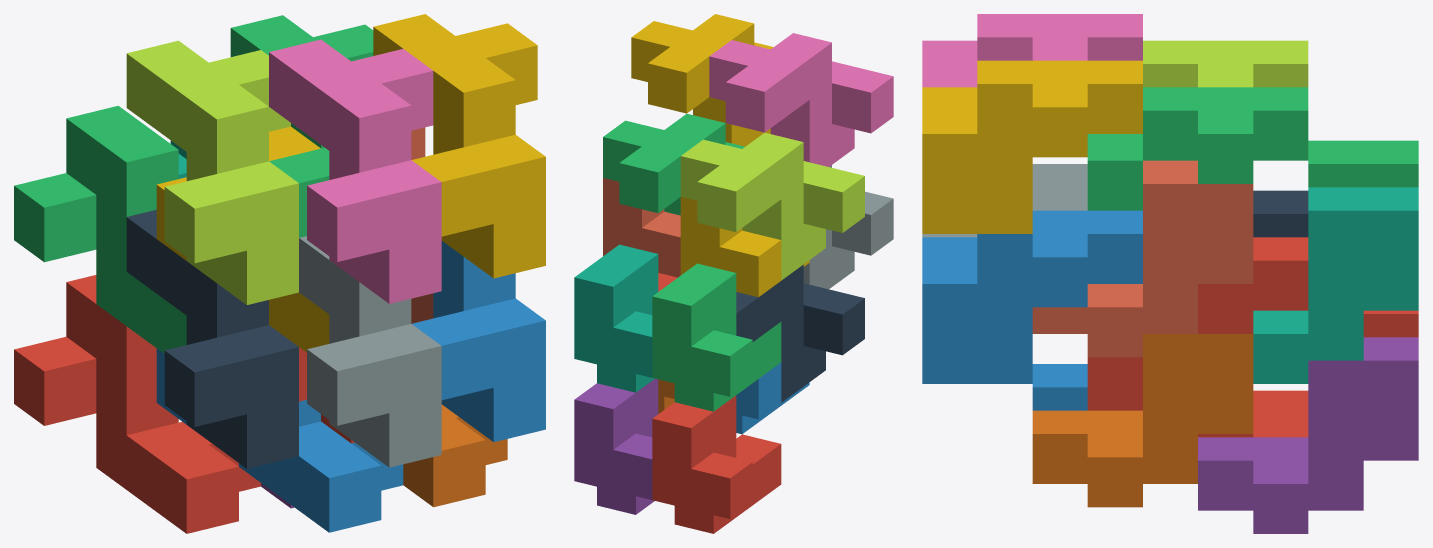
Rendered from tiling.obj.
3 renders of one model, left to right at view 1: azimuth 30°, elevation 25°; view 2: azimuth 150°, elevation 25°; view 3: azimuth 270°, elevation 25°, orthographic. The views are drawn at different scales.
Visible parts, largest first — view 1: copy_2_domain_4, copy_2_domain_3, copy_2_domain_8, copy_1_domain_1, copy_2_domain_1, copy_1_domain_3, copy_2_domain_2, copy_2_domain_6, copy_1_domain_2, copy_2_domain_7, copy_1_domain_6, copy_1_domain_4 (+1 smaller); view 2: copy_2_domain_4, copy_2_domain_3, copy_1_domain_3, copy_1_domain_1, copy_1_domain_7, copy_1_domain_5, copy_2_domain_1, copy_2_domain_8, copy_2_domain_7, copy_1_domain_4, copy_1_domain_8, copy_2_domain_2 (+2 smaller); view 3: copy_2_domain_8, copy_2_domain_6, copy_1_domain_5, copy_1_domain_6, copy_1_domain_8, copy_1_domain_7, copy_2_domain_7, copy_2_domain_4, copy_2_domain_5, copy_2_domain_3, copy_1_domain_3, copy_1_domain_1 (+3 smaller).
Part boxes in pixels (x1=…): copy_2_domain_4: x1=269, y1=39, x2=441, y2=303; copy_2_domain_3: x1=126, y1=40, x2=298, y2=304; copy_2_domain_8: x1=373, y1=14, x2=545, y2=278; copy_1_domain_1: x1=14, y1=275, x2=260, y2=533; copy_2_domain_1: x1=126, y1=209, x2=298, y2=468; copy_1_domain_3: x1=14, y1=105, x2=186, y2=353; copy_2_domain_2: x1=299, y1=236, x2=441, y2=467; copy_2_domain_6: x1=412, y1=241, x2=545, y2=441; copy_1_domain_2: x1=156, y1=348, x2=403, y2=532; copy_2_domain_7: x1=230, y1=15, x2=373, y2=237; copy_1_domain_6: x1=403, y1=404, x2=507, y2=507; copy_1_domain_4: x1=156, y1=126, x2=329, y2=352; copy_2_domain_4: x1=709, y1=33, x2=893, y2=166; copy_2_domain_3: x1=680, y1=132, x2=864, y2=280; copy_1_domain_3: x1=652, y1=263, x2=781, y2=411; copy_1_domain_1: x1=652, y1=395, x2=781, y2=533; copy_1_domain_7: x1=574, y1=244, x2=658, y2=392; copy_1_domain_5: x1=574, y1=378, x2=658, y2=514; copy_2_domain_1: x1=736, y1=264, x2=864, y2=402; copy_2_domain_8: x1=631, y1=14, x2=773, y2=146; copy_2_domain_7: x1=603, y1=113, x2=744, y2=215; copy_1_domain_4: x1=680, y1=197, x2=809, y2=297; copy_1_domain_8: x1=603, y1=178, x2=680, y2=277; copy_2_domain_2: x1=803, y1=165, x2=893, y2=289; copy_2_domain_8: x1=922, y1=60, x2=1142, y2=233; copy_2_domain_6: x1=922, y1=210, x2=1142, y2=383; copy_1_domain_5: x1=1198, y1=337, x2=1418, y2=533; copy_1_domain_6: x1=1032, y1=334, x2=1253, y2=507; copy_1_domain_8: x1=1032, y1=160, x2=1253, y2=357; copy_1_domain_7: x1=1253, y1=187, x2=1418, y2=383; copy_2_domain_7: x1=1087, y1=87, x2=1308, y2=210; copy_2_domain_4: x1=922, y1=14, x2=1142, y2=87; copy_2_domain_5: x1=1087, y1=237, x2=1308, y2=410; copy_2_domain_3: x1=1143, y1=40, x2=1308, y2=87; copy_1_domain_3: x1=1308, y1=140, x2=1418, y2=187; copy_1_domain_1: x1=1198, y1=310, x2=1418, y2=437.
Size of the model in its own units: 6 by 9 by 9.
